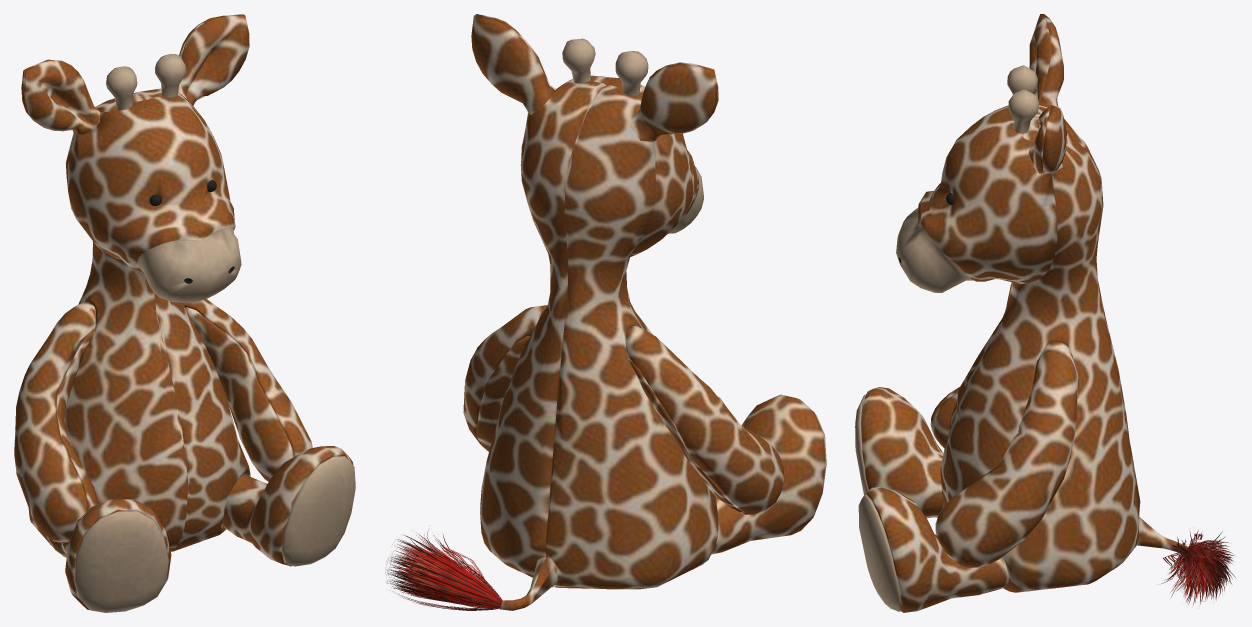
The model's file is Kid_toy_10.glb.
3 views of the same model, side by side, from view 1: azimuth 30°, elevation 25°; view 2: azimuth 150°, elevation 25°; view 3: azimuth 270°, elevation 25° (orthographic). The views are drawn at different scales.
Parts seen in each view (by area): view 1: BP_Kid_toy_10; view 2: BP_Kid_toy_10; view 3: BP_Kid_toy_10.
Boxes of the visible parts, bbox=[...] form: BP_Kid_toy_10: bbox=[14, 14, 355, 612]; BP_Kid_toy_10: bbox=[385, 14, 826, 610]; BP_Kid_toy_10: bbox=[855, 14, 1235, 612].
Bounding box in the file's own units: 0.1233 × 0.2037 × 0.1434.
5 materials, 4 textured.
